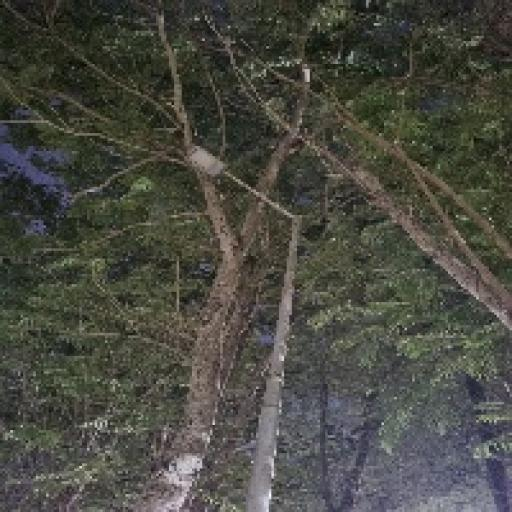Not Working: (168, 135, 238, 186)
